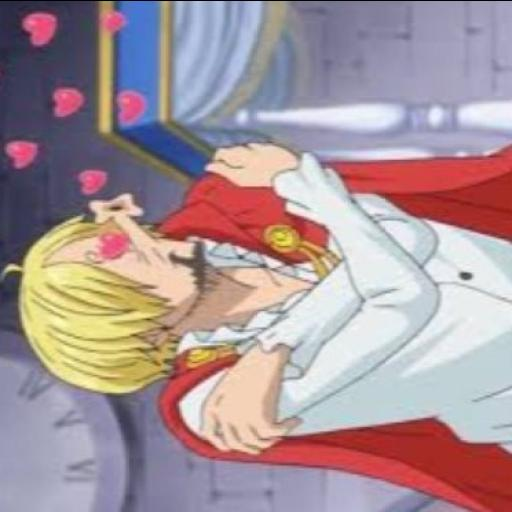sanji: (4, 122, 512, 495)
